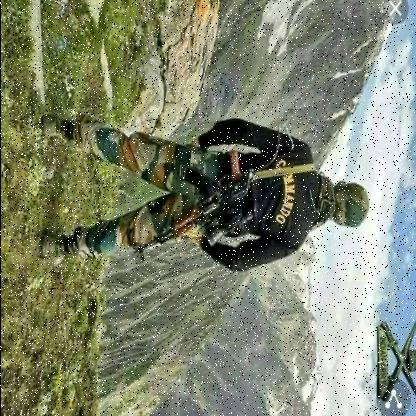rifle: (132, 147, 256, 263)
